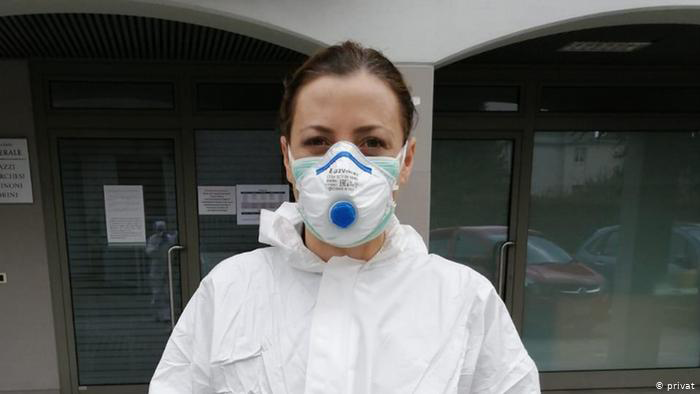Coverall: (151, 245, 541, 391)
with_mask: (296, 126, 401, 248)
